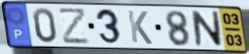0: (31, 6, 59, 45)
3: (95, 7, 125, 47)
8: (163, 9, 191, 47)
K: (126, 9, 155, 46)
N: (190, 9, 224, 48)
Z: (57, 7, 91, 45)
